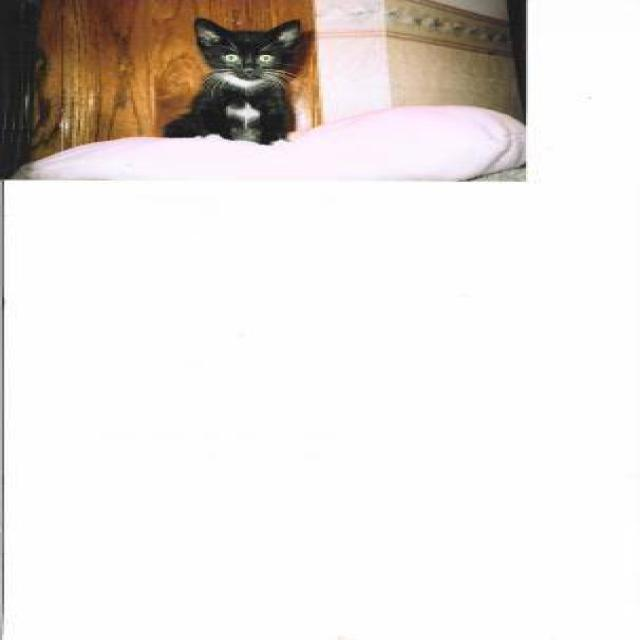cat: (160, 17, 308, 144)
